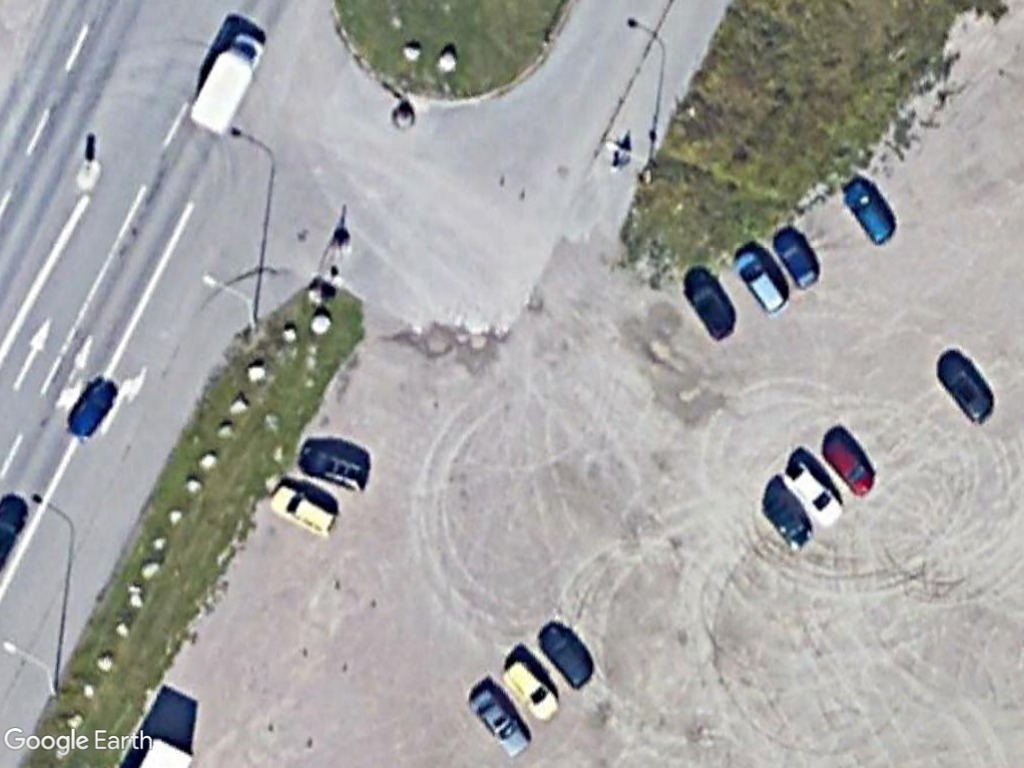car: (496, 647, 566, 726), (678, 267, 744, 348), (265, 478, 345, 544), (781, 455, 847, 533), (466, 684, 533, 760), (729, 245, 797, 319), (937, 352, 1001, 428), (816, 426, 883, 498), (534, 618, 599, 692), (840, 174, 899, 253), (768, 223, 826, 293)
van: (183, 24, 279, 140)
